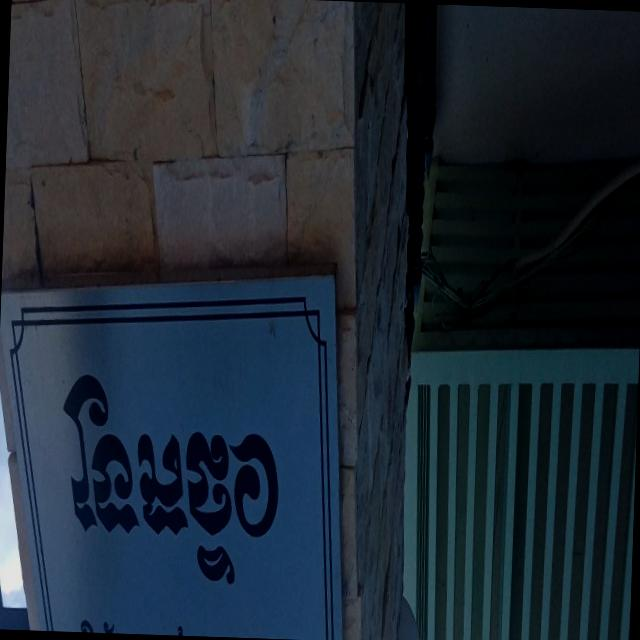Yolov11_80vkh: (52, 315, 299, 602)
